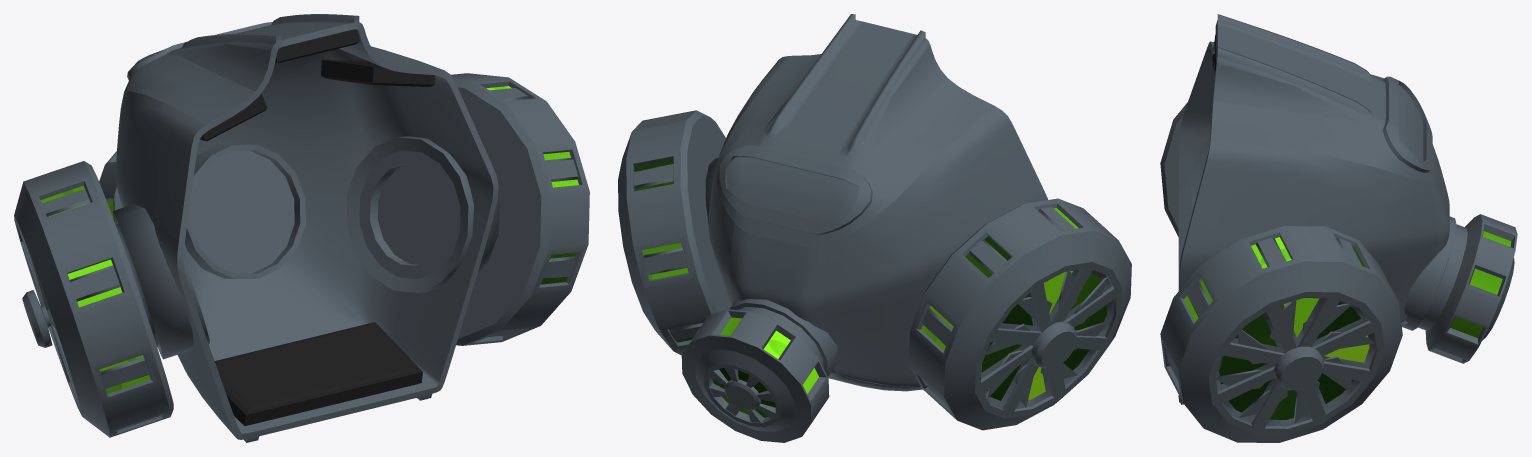
The model's file is MaskUpdate.fbx.
3 renders of one model, left to right at view 1: azimuth 30°, elevation 25°; view 2: azimuth 150°, elevation 25°; view 3: azimuth 270°, elevation 25°, orthographic. The views are drawn at different scales.
Visible parts, largest first — view 1: Mask.002, Circle.010, Circle.006; view 2: Mask.002, Circle.008, Circle.006, Circle.010; view 3: Mask.002, Circle.007, Circle.006.
Boxes of the visible parts, bbox=[...] form: Mask.002: bbox=[14, 14, 589, 442]; Circle.010: bbox=[41, 189, 160, 430]; Circle.006: bbox=[487, 88, 578, 337]; Mask.002: bbox=[618, 14, 1131, 442]; Circle.008: bbox=[985, 271, 1111, 407]; Circle.006: bbox=[633, 118, 702, 340]; Circle.010: bbox=[921, 207, 1075, 402]; Mask.002: bbox=[1160, 14, 1517, 442]; Circle.007: bbox=[1216, 300, 1374, 423]; Circle.006: bbox=[1166, 237, 1361, 380].
Bounding box in the file's own units: 270 × 187 × 180.
Materials: 4 (1 with a texture image).
